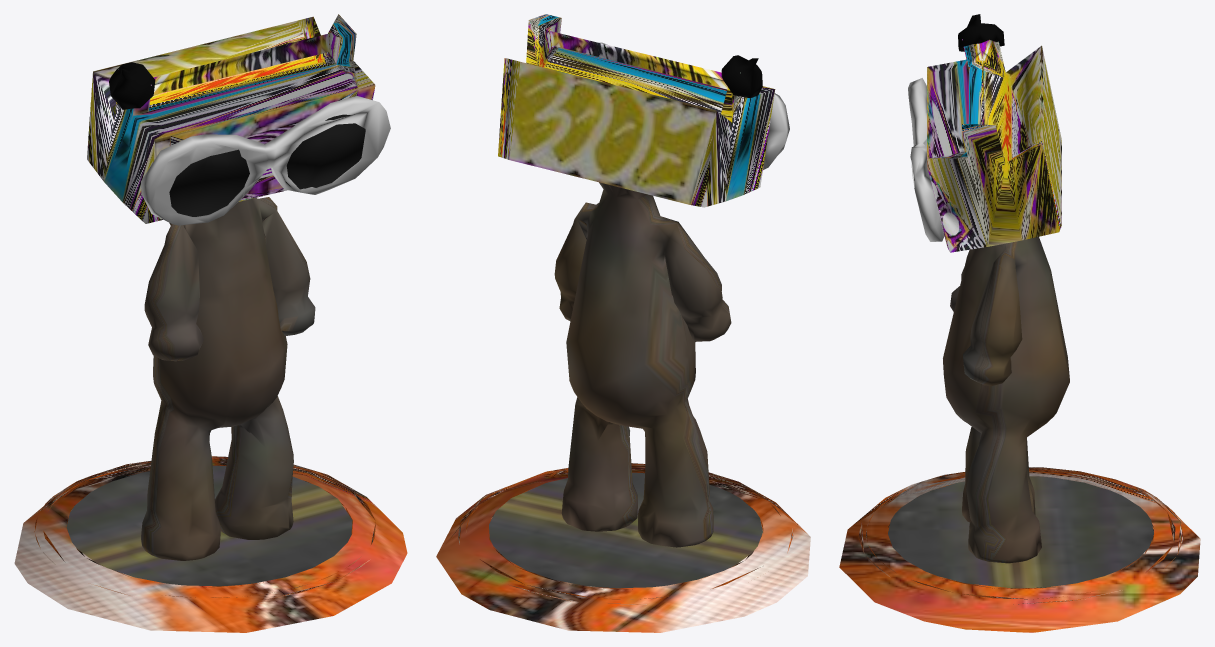
The picture shows the model from 3 angles, left to right: view 1: azimuth 30°, elevation 25°; view 2: azimuth 150°, elevation 25°; view 3: azimuth 270°, elevation 25°; orthographic projection. The views are drawn at different scales.
Bounding box in the file's own units: 1.44 × 2.13 × 1.42.
8 materials, 4 textured.
